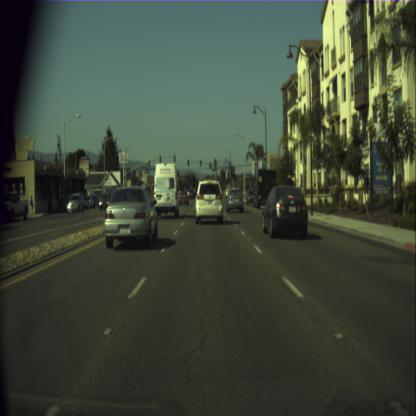Green: (200, 160, 202, 166), (233, 173, 234, 180), (209, 162, 210, 167)
off: (187, 159, 189, 166)
